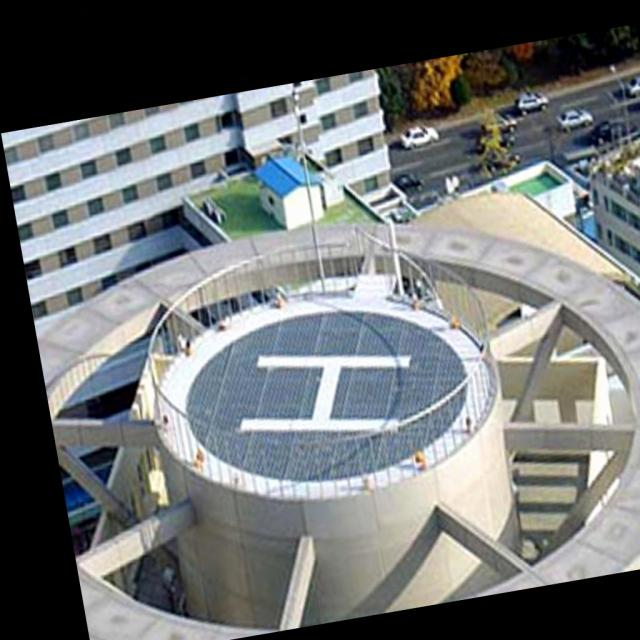helipad: (150, 288, 492, 507)
